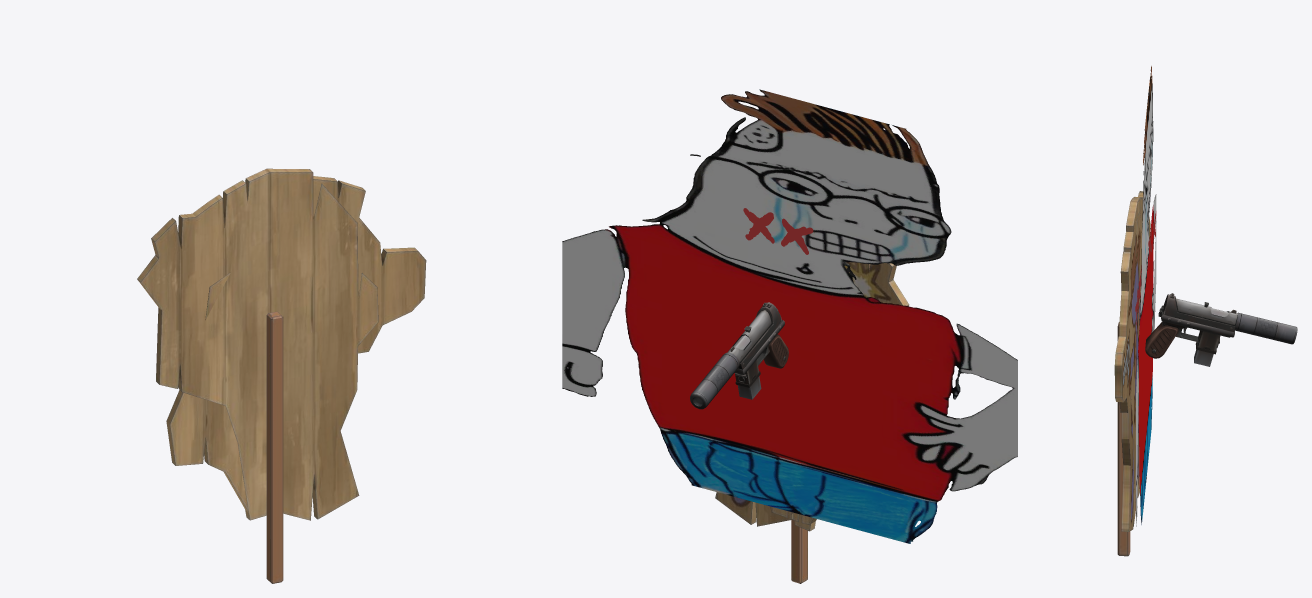
The model's file is Target (13).glb.
3 views of the same model, side by side, from view 1: azimuth 30°, elevation 25°; view 2: azimuth 150°, elevation 25°; view 3: azimuth 270°, elevation 25° (orthographic). The views are drawn at different scales.
Visible parts, largest first — view 1: BanditDynamite, BanditRevolver; view 2: Cube, old_stylized_agent_pistol_handpainted, BanditDynamite, Dead, BanditRevolver; view 3: BanditRevolver, Cube, old_stylized_agent_pistol_handpainted, BanditDynamite.
Boxes of the visible parts, left/top/right/bottom form: BanditDynamite: left=137, top=168, right=378, bottom=583; BanditRevolver: left=166, top=176, right=426, bottom=583; Cube: left=562, top=89, right=1017, bottom=543; old_stylized_agent_pistol_handpainted: left=690, top=302, right=788, bottom=409; BanditDynamite: left=715, top=262, right=909, bottom=583; Dead: left=743, top=208, right=813, bottom=254; BanditRevolver: left=770, top=506, right=816, bottom=583; BanditRevolver: left=1114, top=212, right=1142, bottom=556; Cube: left=1136, top=66, right=1156, bottom=526; old_stylized_agent_pistol_handpainted: left=1145, top=293, right=1297, bottom=366; BanditDynamite: left=1118, top=191, right=1150, bottom=553.
Bounding box in the file's own units: 2.64 × 2.65 × 1.19.
5 materials, 5 textured.
